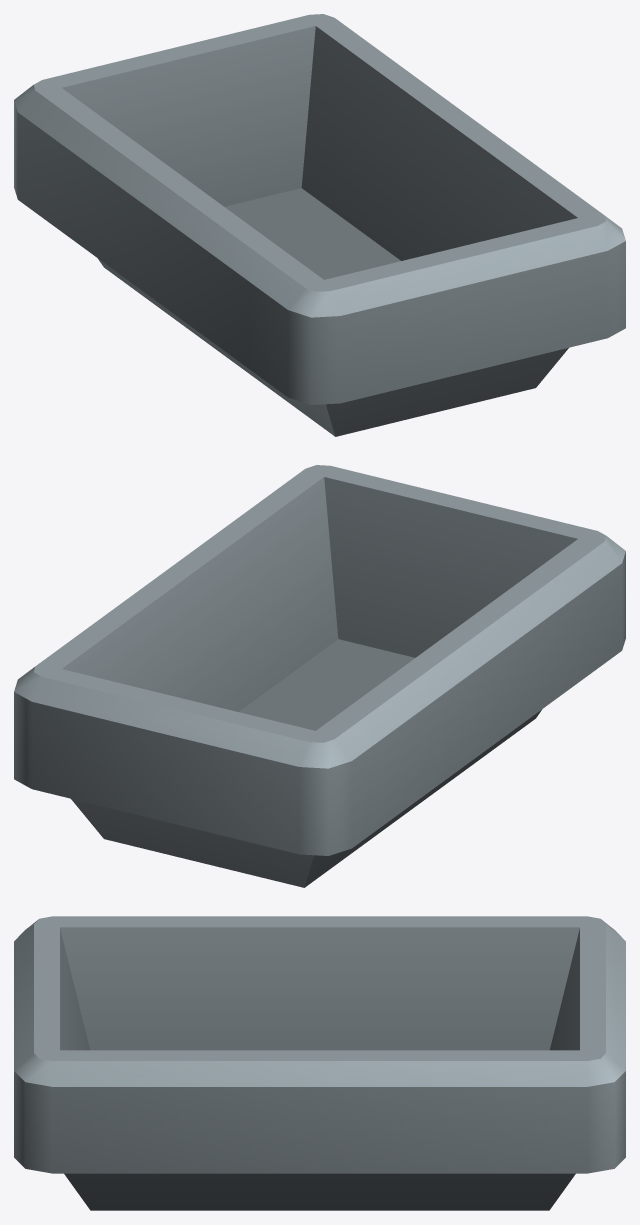
Rendered from icecream_container.obj.
3 renders of one model, top to bottom at view 1: azimuth 30°, elevation 25°; view 2: azimuth 150°, elevation 25°; view 3: azimuth 270°, elevation 25°, orthographic.
Parts seen in each view (by area): view 1: icecream_container_Cube.381; view 2: icecream_container_Cube.381; view 3: icecream_container_Cube.381.
Boxes of the visible parts, x1,y1,x2,y2 form: icecream_container_Cube.381: (14,14,625,436); icecream_container_Cube.381: (14,465,625,887); icecream_container_Cube.381: (14,916,625,1210).
Size of the model in its own units: 1 by 0.5 by 1.6.
1 material, 1 textured.
